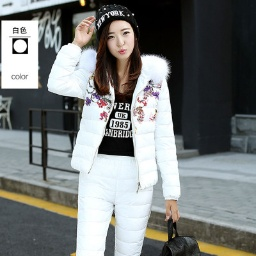face: (91, 17, 144, 70)
